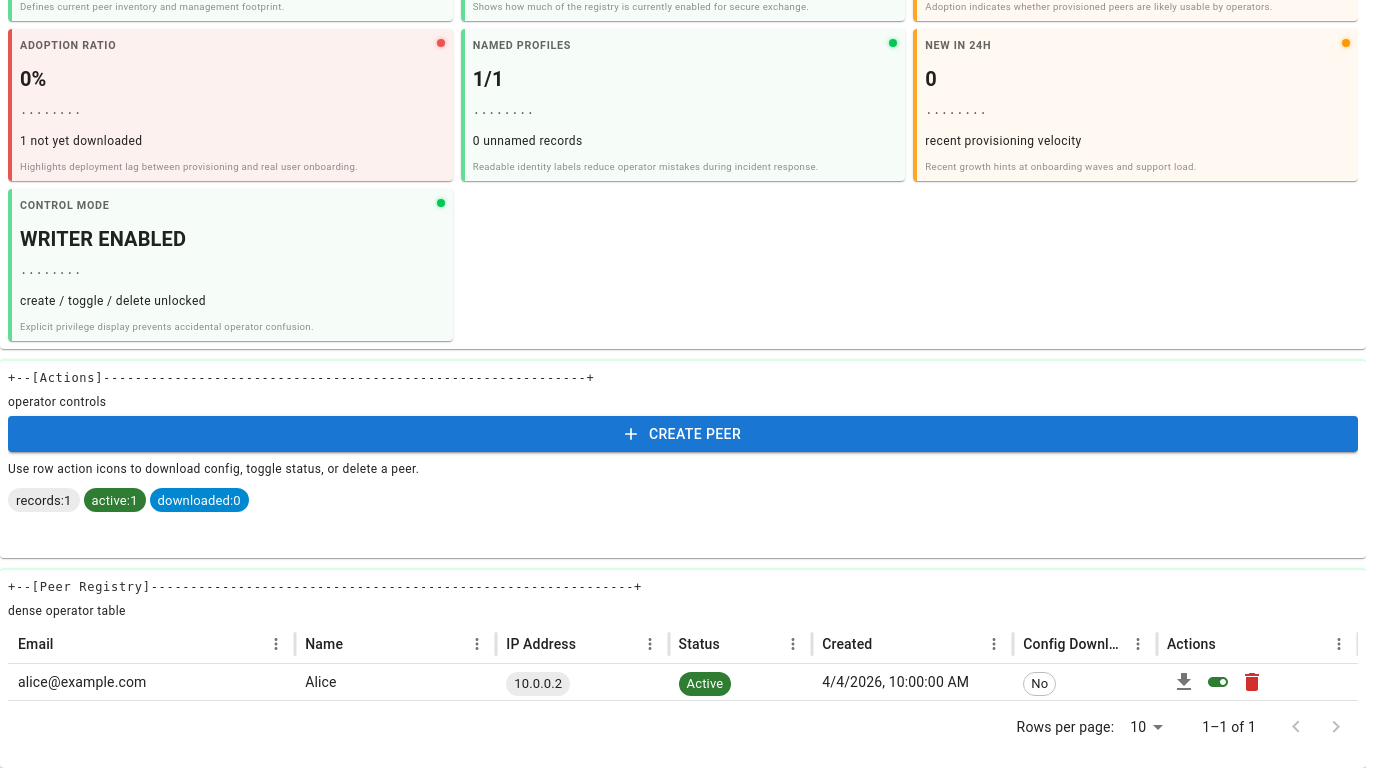
Test: Peers page › deletes a peer and shows success message
(page scrolled)
Expected: the text "alice@example.com" is shown, 18,674 -> 146,690
Click the button titled "Delete" at (1252,682), box 1235,665 -> 1269,699
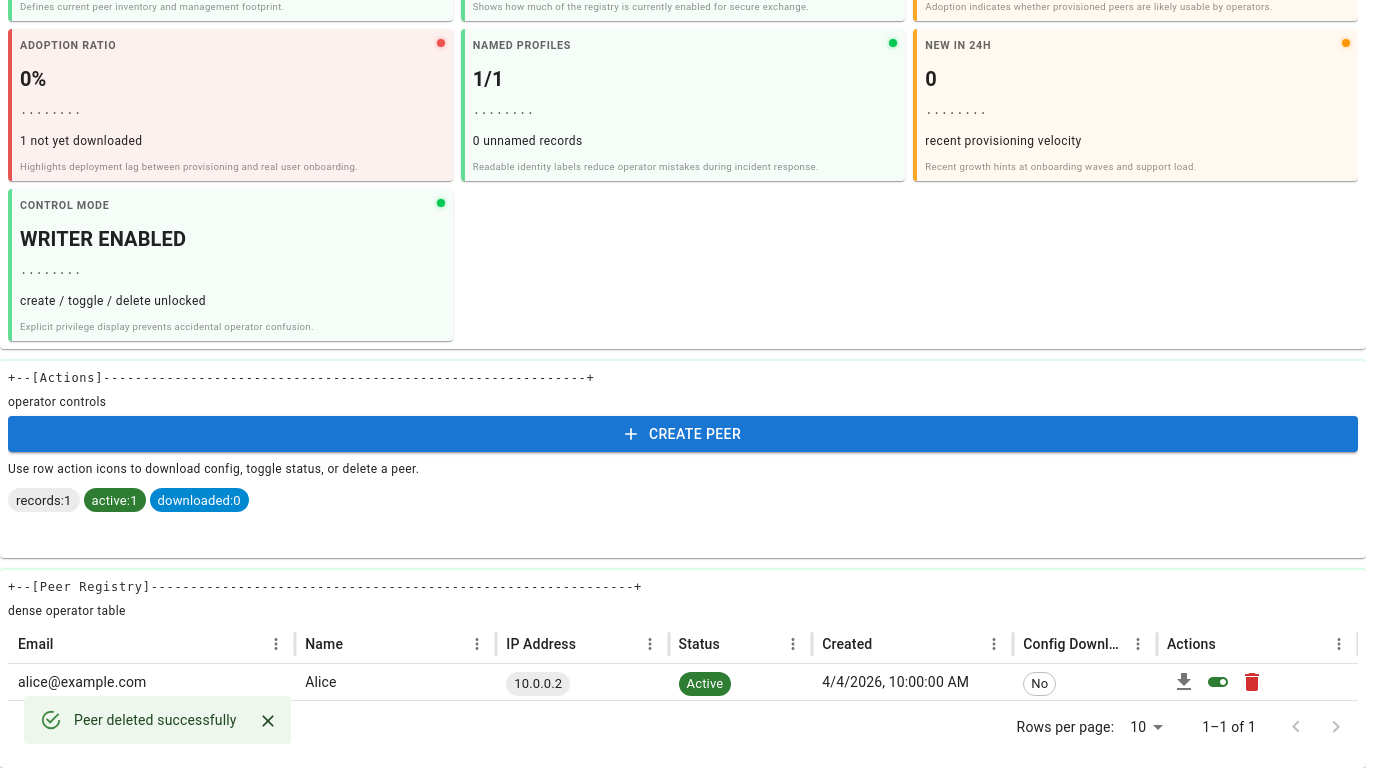
Expected: the text "Peer deleted successfully" is shown, 74,712 -> 237,728
